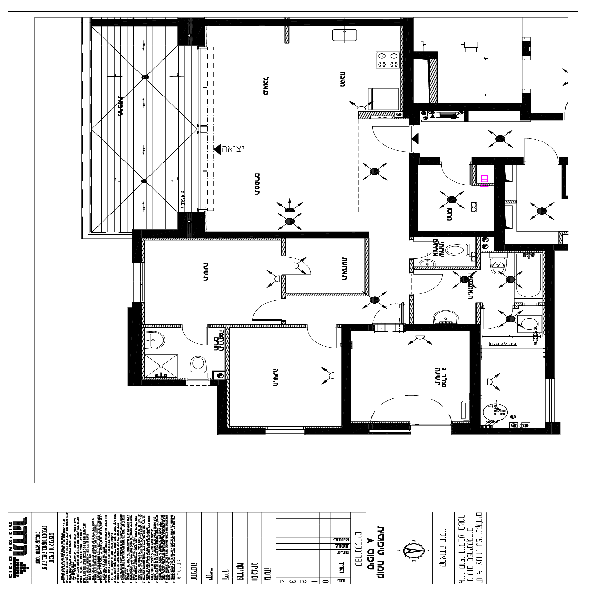door: (519, 122, 563, 164), (372, 124, 413, 158), (280, 254, 323, 284), (307, 320, 343, 354), (438, 156, 473, 189), (250, 294, 287, 324), (183, 325, 217, 352), (407, 271, 444, 294)
window: (132, 264, 147, 302), (266, 424, 302, 439), (546, 379, 557, 419)
